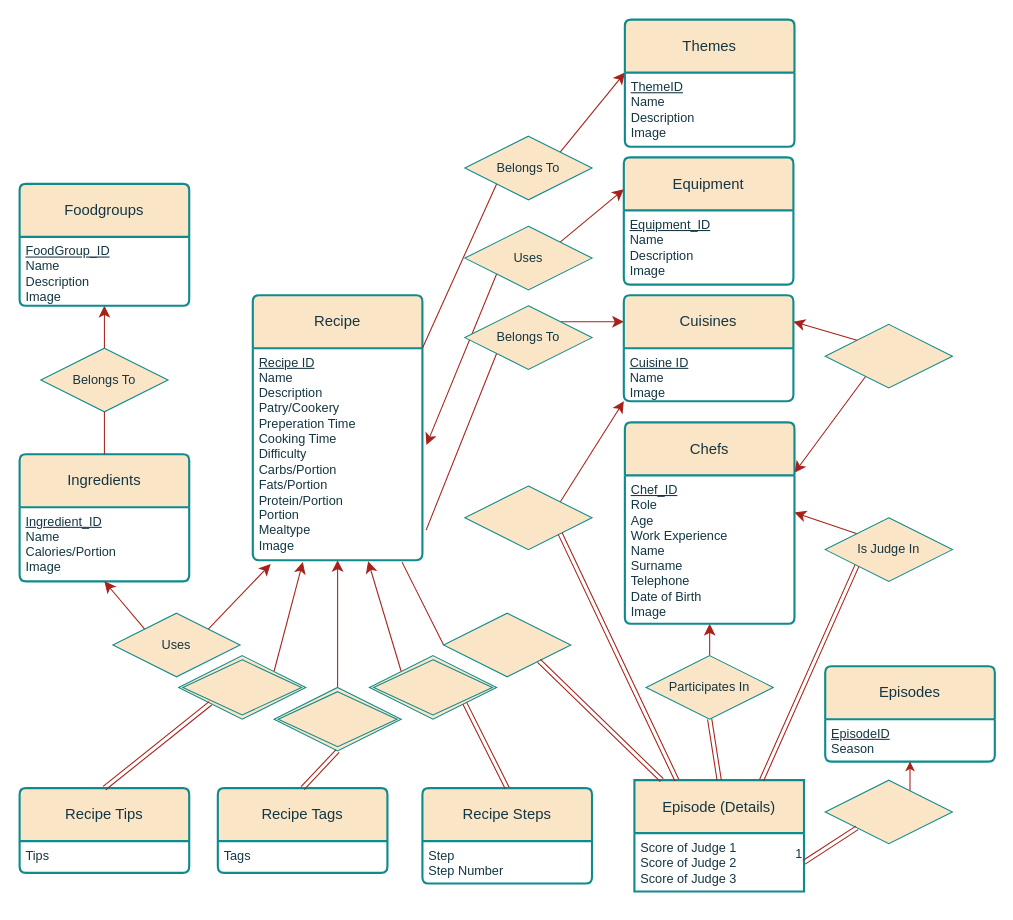
The diagram is 1013 pixels wide and 920 high, and some of its shapes have lost their labels. Each missing label, with the centre of its shape:
"Based On" goes at (528,517).
"Describes" goes at (337,718).
"Has Details Of" goes at (888,811).
"Has Specialty In" goes at (888,355).
"Is Cooked in" goes at (507,644).
"Provides Steps" goes at (432,687).
"Provides Tips" goes at (242,687).
